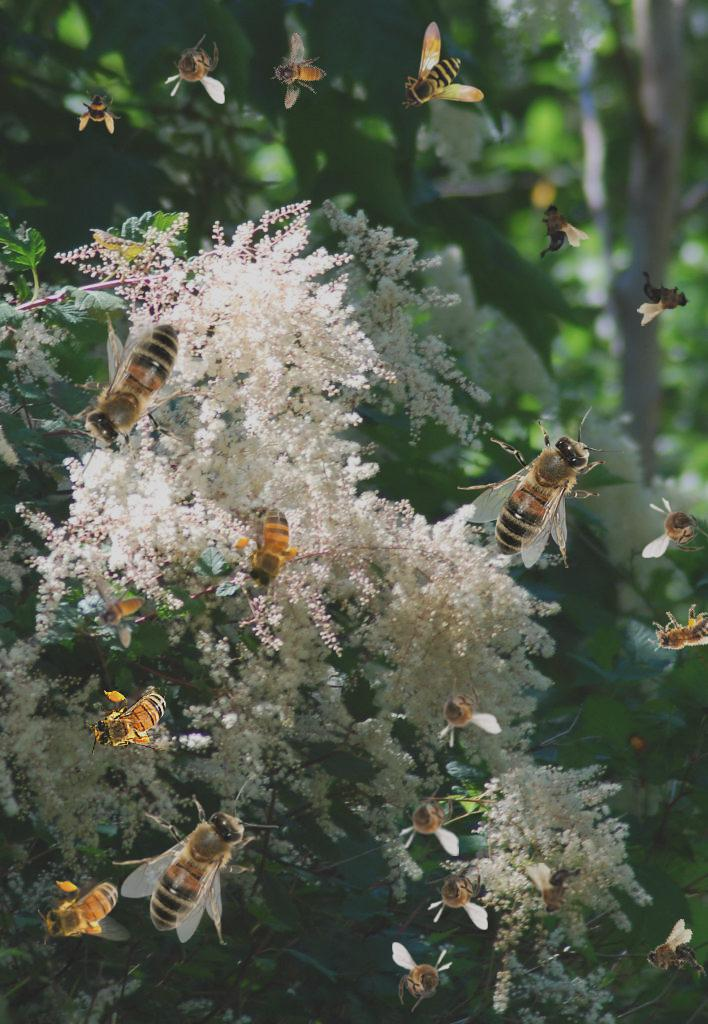Bee: (112, 781, 279, 943), (457, 406, 624, 568), (50, 312, 217, 474), (215, 490, 329, 605), (418, 668, 503, 758), (402, 21, 484, 109), (258, 31, 338, 118), (86, 687, 179, 755), (38, 877, 131, 945), (515, 193, 594, 267), (636, 917, 708, 995), (641, 599, 708, 664), (427, 860, 488, 930), (164, 34, 225, 104), (392, 942, 453, 1012), (398, 786, 459, 856), (642, 497, 708, 558), (95, 577, 145, 648), (526, 863, 588, 916), (637, 264, 690, 326), (77, 90, 121, 134)
